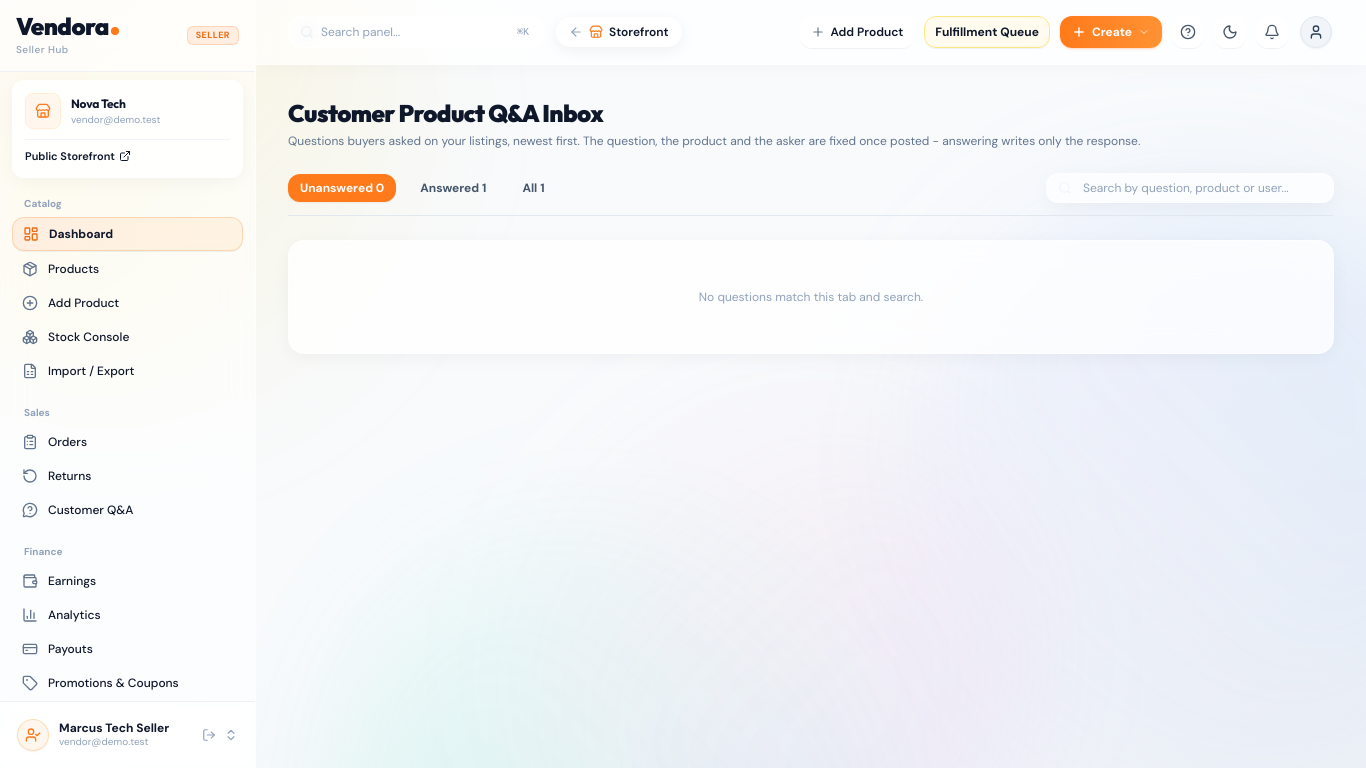
Test: VendorQAPage › hides an answer from the listing without deleting it
Click the button "Answered 1": (453, 188) top-left (408, 174), bottom-right (498, 202)
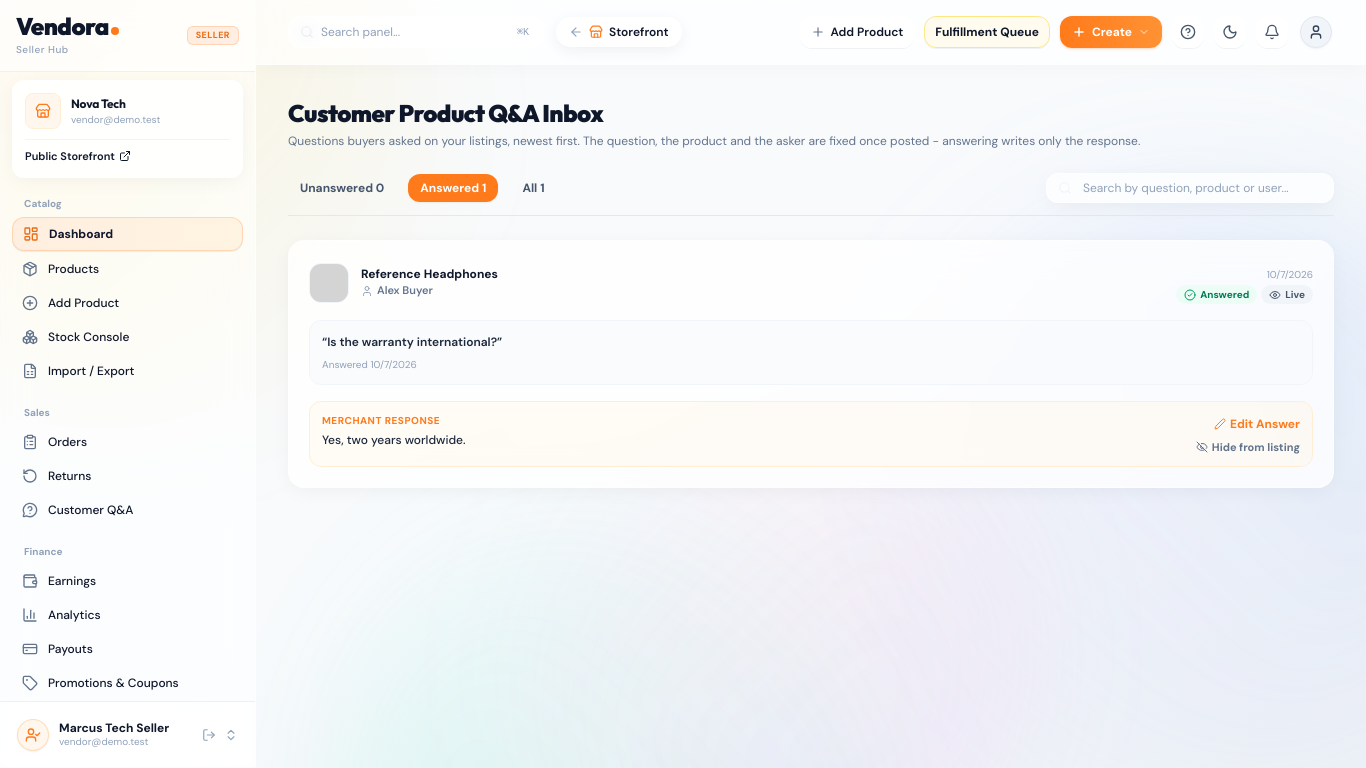
Now the button "Hide from listing" is shown
Click the button "Hide from listing": (1248, 447) top-left (1196, 440), bottom-right (1300, 454)
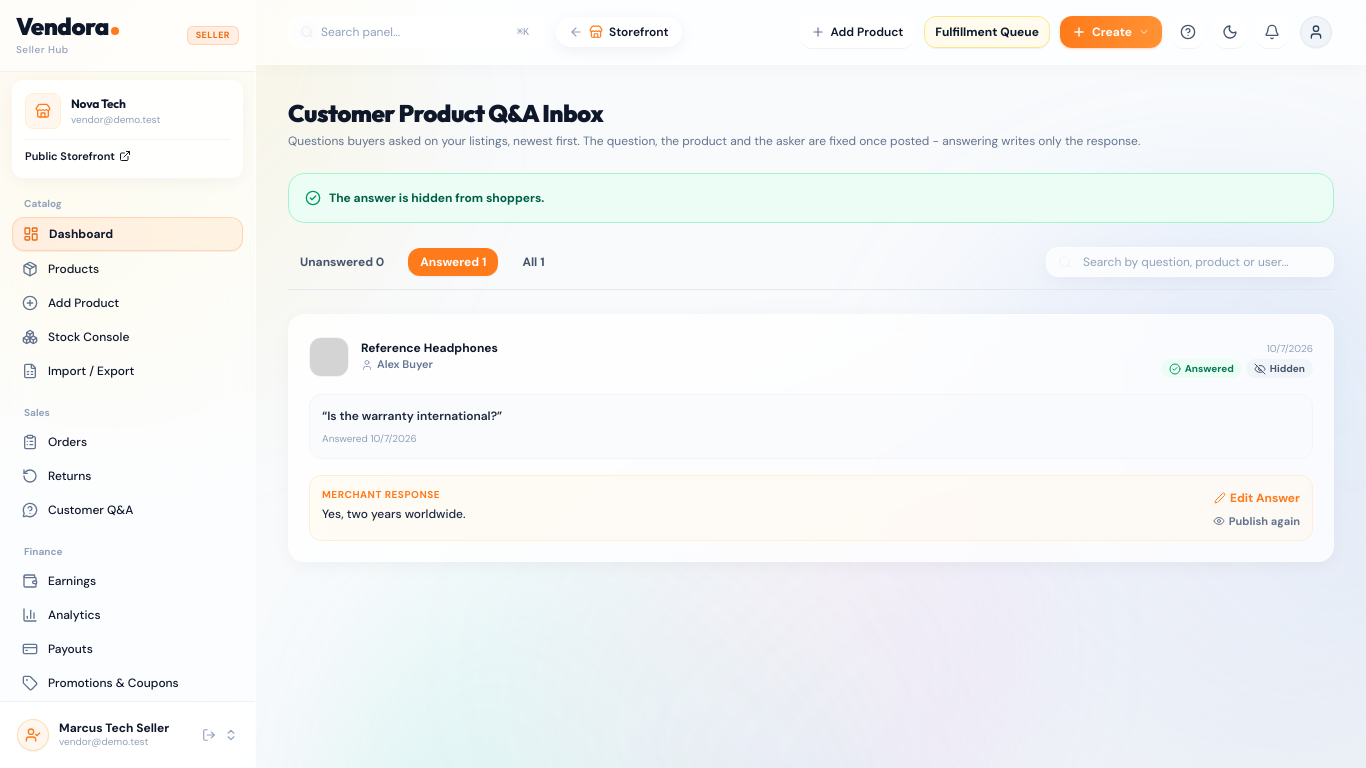
Now the text "The answer is hidden from shoppers." is shown, box top-left (288, 173), bottom-right (1334, 223)
